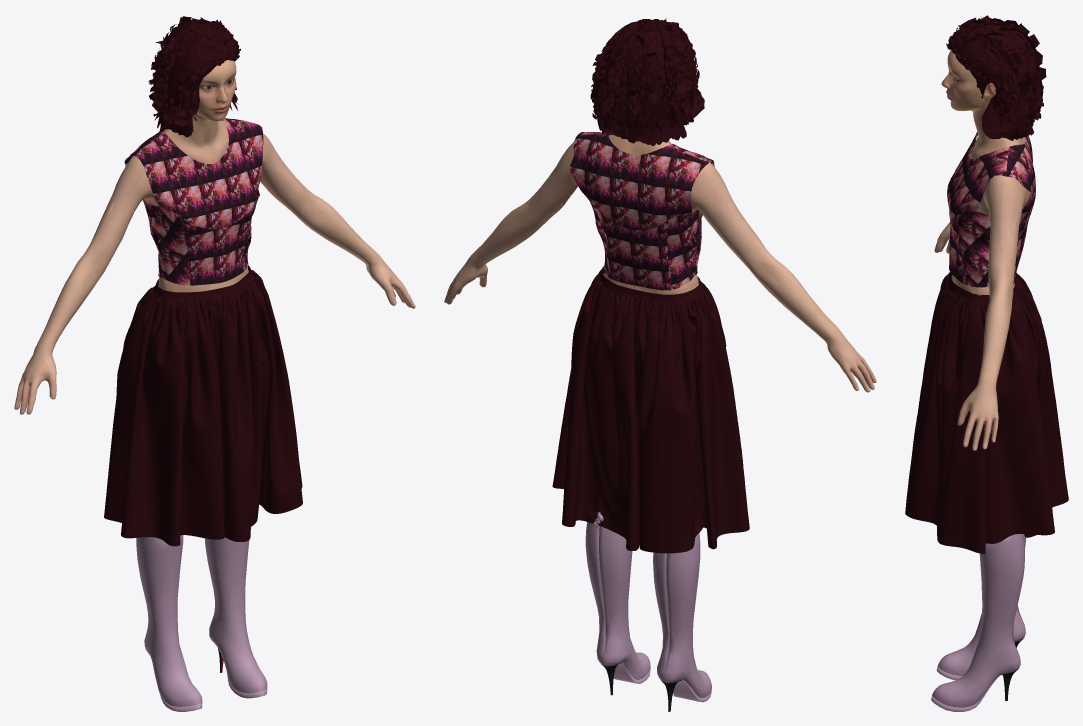
3 views of the same model, side by side, from view 1: azimuth 30°, elevation 25°; view 2: azimuth 150°, elevation 25°; view 3: azimuth 270°, elevation 25° (orthographic).
Parts seen in each view (by area): view 1: Cloth, Avatar; view 2: Cloth, Avatar; view 3: Cloth, Avatar.
Boxes of the visible parts, x1,y1,x2,y2 form: Cloth: [104, 118, 302, 546]; Avatar: [14, 16, 415, 711]; Cloth: [552, 132, 749, 553]; Avatar: [444, 18, 876, 711]; Cloth: [905, 132, 1068, 553]; Avatar: [931, 15, 1046, 711].
Bounding box in the file's own units: 1.08 × 1.7 × 0.3766.
Materials: 14 (12 with a texture image).
